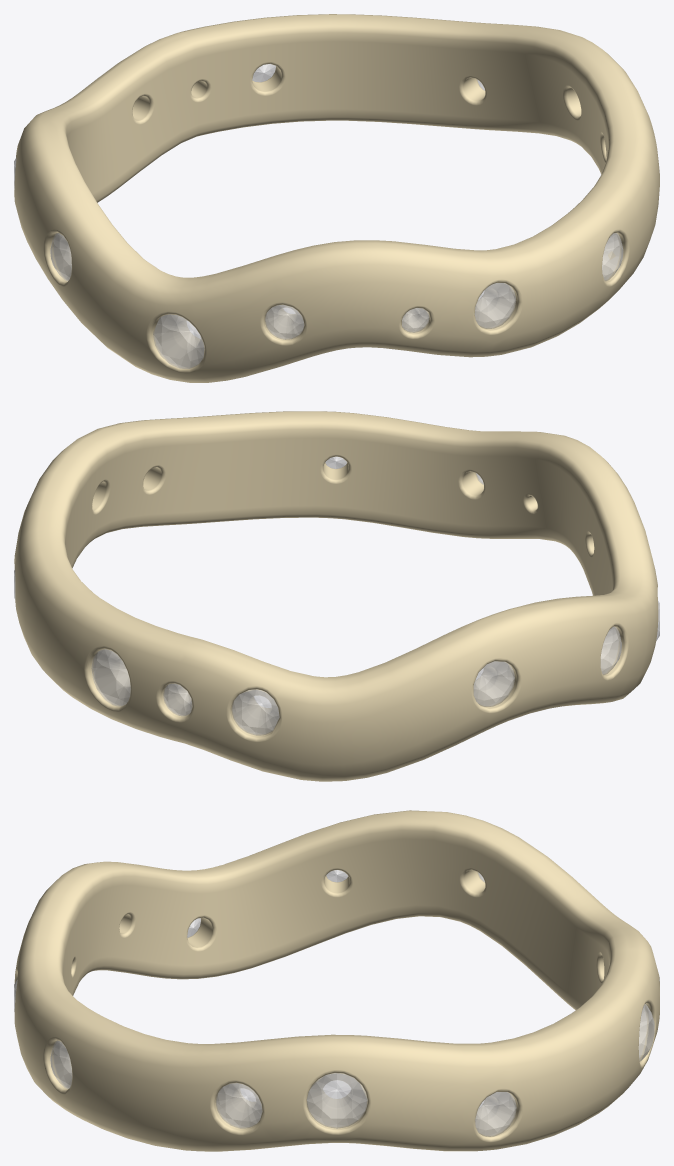
Rendered from EvStone.glb.
The picture shows the model from 3 angles, top to bottom: view 1: azimuth 30°, elevation 25°; view 2: azimuth 150°, elevation 25°; view 3: azimuth 270°, elevation 25°; orthographic projection.
Visible parts, largest first — view 1: Metal, Gem11, Gem13, Gem5, Gem1, Gem3, Gem12; view 2: Metal, Gem7, Gem6, Gem10, Gem4, Gem1; view 3: Metal, Gem8, Gem9, Gem2, Gem3, Gem6.
Boxes of the visible parts, x1,y1,x2,y2 form: Metal: (14, 14, 659, 382); Gem11: (153, 314, 204, 368); Gem13: (474, 283, 515, 328); Gem5: (265, 305, 304, 339); Gem1: (50, 233, 71, 281); Gem3: (602, 233, 623, 281); Gem12: (402, 308, 429, 332); Metal: (14, 411, 658, 781); Gem7: (231, 689, 279, 735); Gem6: (91, 649, 130, 706); Gem10: (473, 661, 514, 706); Gem4: (163, 683, 192, 716); Gem1: (600, 626, 621, 674); Metal: (14, 810, 659, 1151); Gem8: (307, 1073, 367, 1128); Gem9: (215, 1083, 262, 1128); Gem2: (475, 1092, 516, 1136); Gem3: (50, 1040, 72, 1088); Gem6: (638, 1004, 654, 1061).
Bounding box in the file's own units: 19.13 × 5.43 × 19.06.
